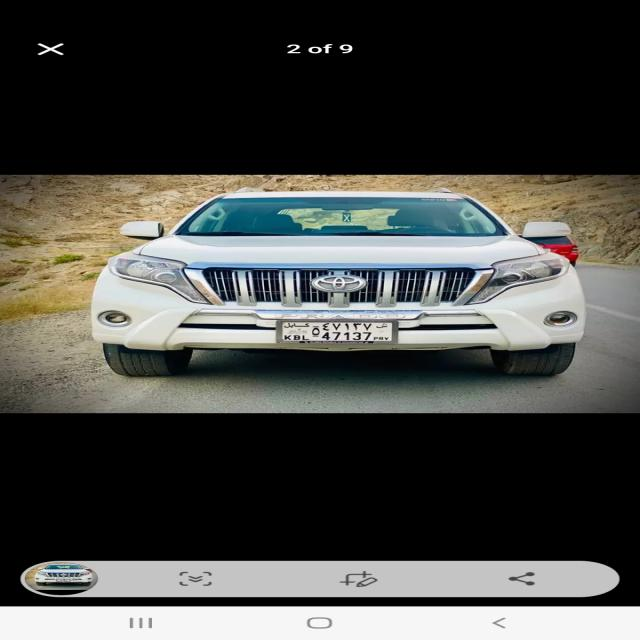Plate: (277, 318, 397, 344)
